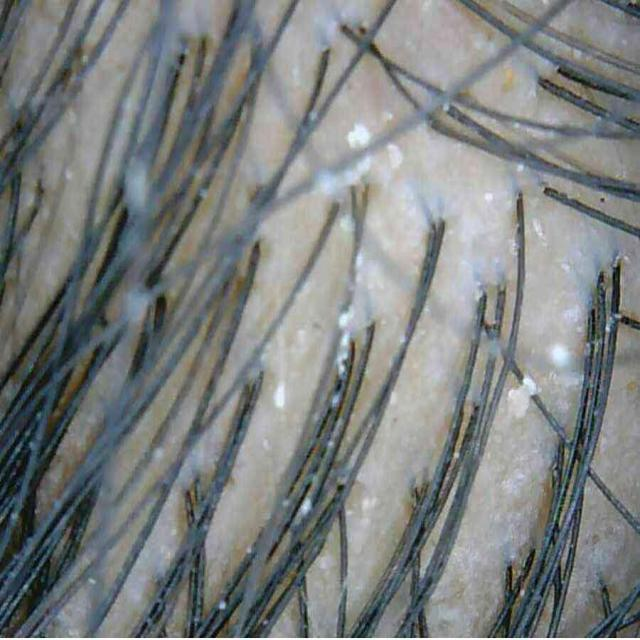d: (308, 154, 372, 198), (124, 158, 150, 215), (506, 376, 538, 418), (335, 312, 352, 374), (346, 123, 371, 149), (549, 344, 571, 369), (294, 497, 312, 525), (388, 144, 404, 170), (272, 381, 286, 409), (340, 215, 351, 232)
ds: (466, 437, 551, 586), (559, 507, 633, 632)
